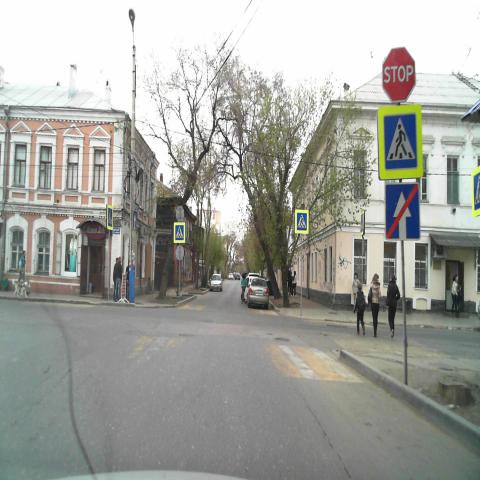2_5: (382, 46, 416, 103)
